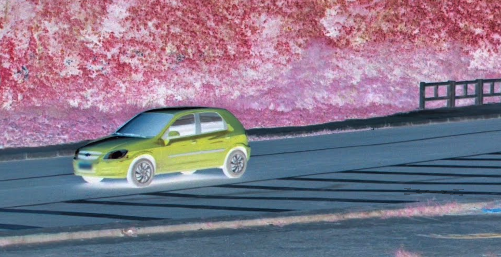car: (68, 104, 254, 190)
